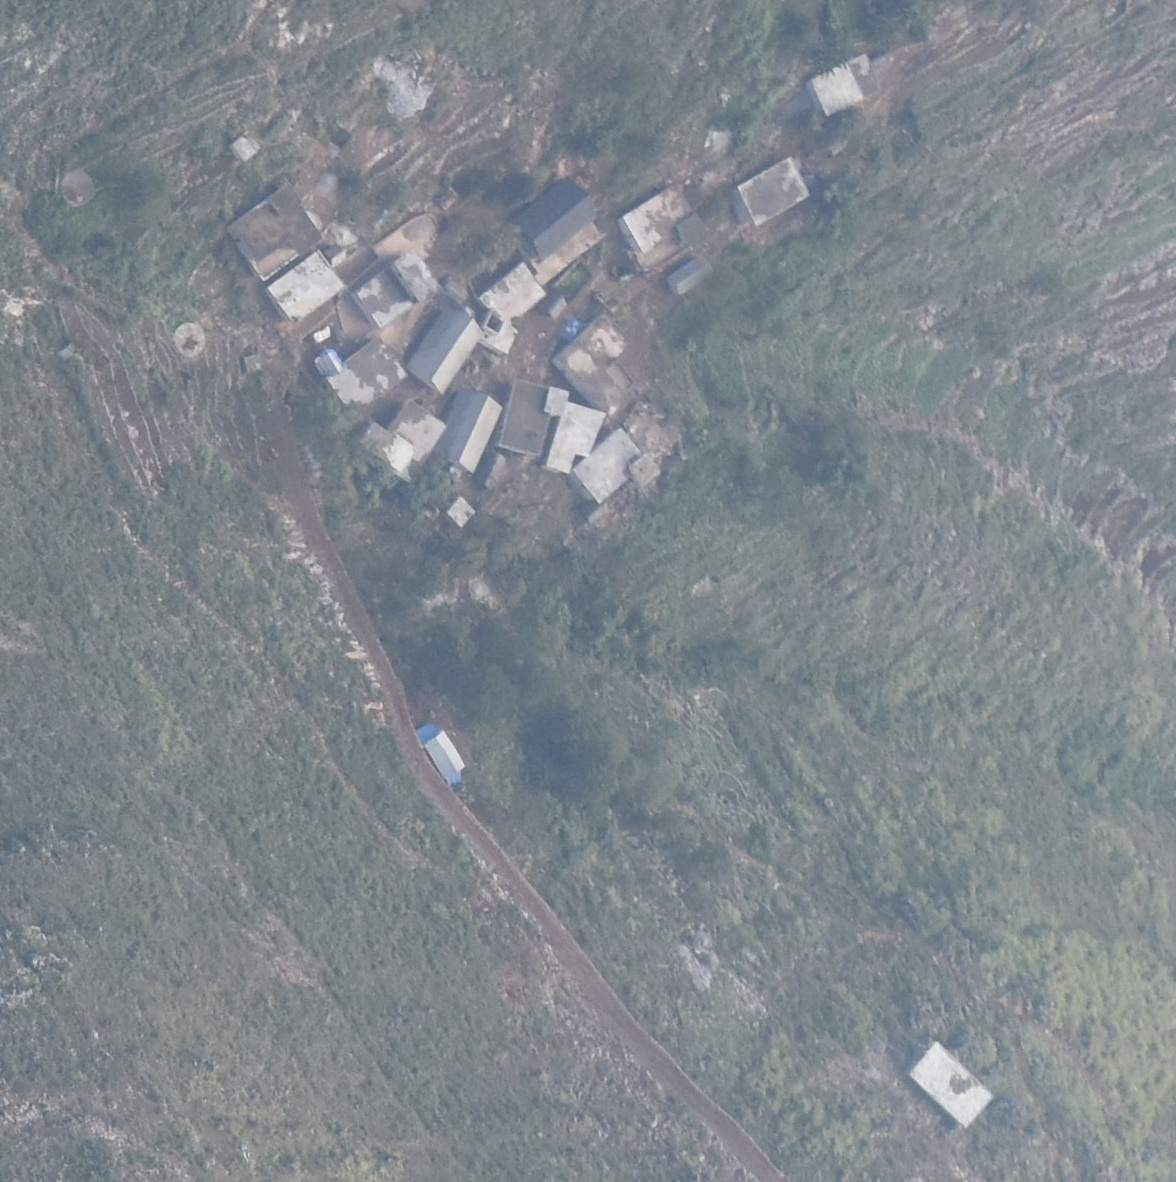building: (228, 179, 326, 279), (555, 312, 646, 413), (906, 1042, 999, 1125), (512, 179, 601, 262), (350, 252, 442, 329), (406, 307, 489, 391), (318, 330, 409, 406), (731, 153, 813, 225), (572, 428, 649, 503), (498, 378, 570, 456), (436, 390, 505, 470), (267, 252, 346, 319), (621, 183, 697, 252), (546, 402, 610, 477), (389, 399, 450, 465), (475, 261, 546, 316), (353, 419, 416, 478), (806, 62, 865, 117), (670, 256, 713, 296), (446, 495, 476, 529)
prefabricated-house: (416, 723, 470, 783)
well: (169, 321, 208, 357), (60, 169, 96, 207)
